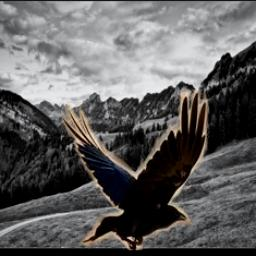Crow: (61, 89, 209, 250)
